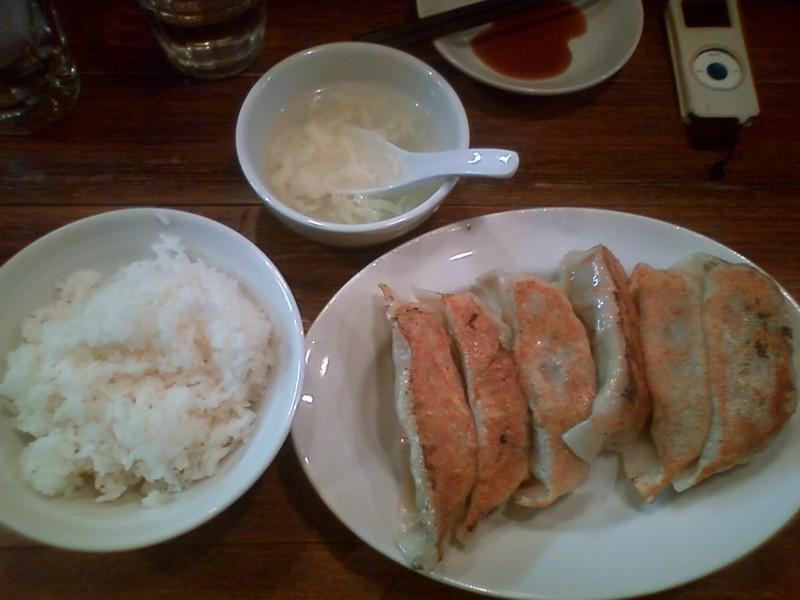plate: (292, 207, 799, 599), (0, 208, 304, 550)
rice: (0, 239, 278, 504)
